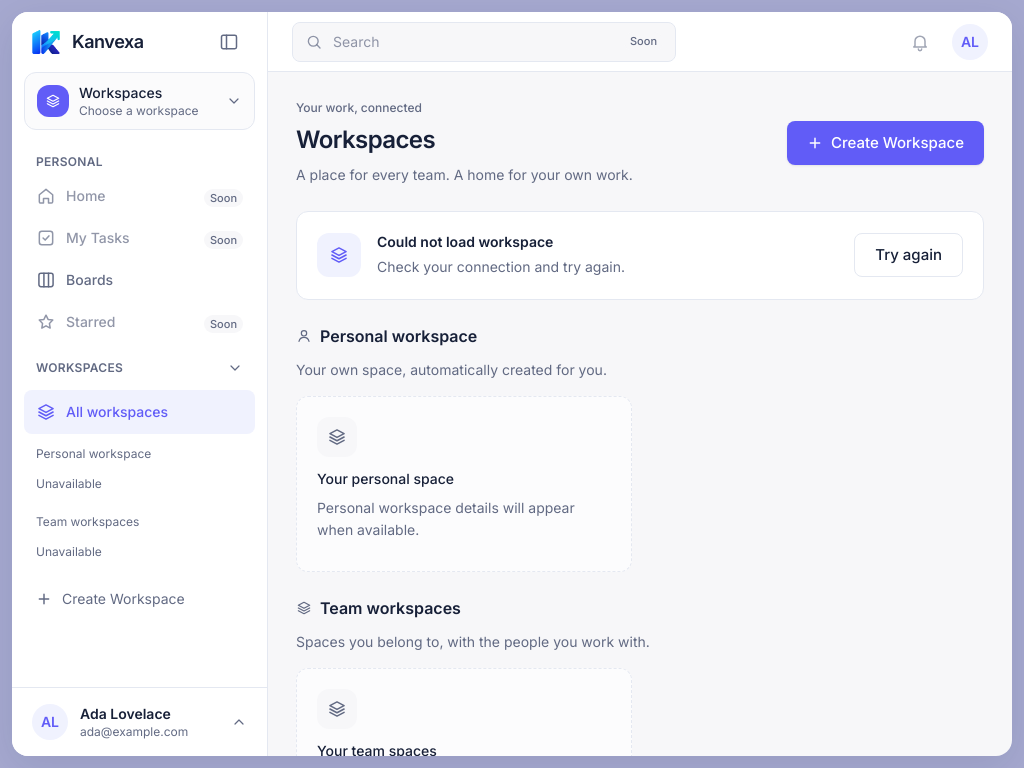
Workspace states and access isolation › retries discovery after a failure without retaining old directory rows
The width and height of the screenshot is (1024, 768).
Expected: the heading "Could not load workspace" is shown, [377,233,553,250]
Click the button "Try again" at (909, 255), box [854,233,963,277]
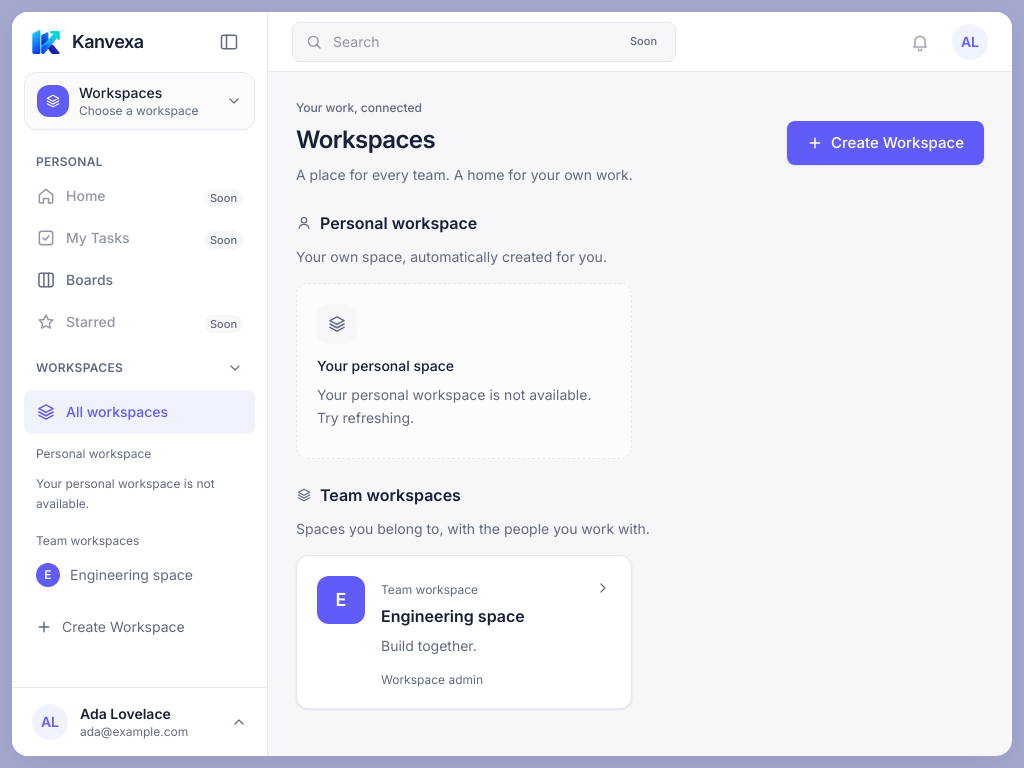
Now the heading "Engineering space" is shown, box [381,606,525,626]
